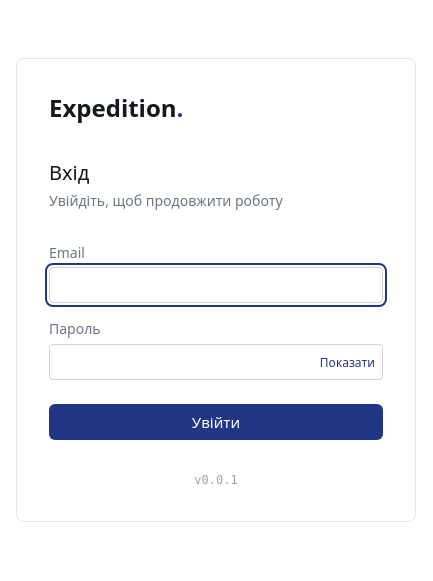
LoginView › shows validation error for field on 422
This screenshot has width=433, height=581.
Type "bad@example.com" into the field labelled "Email" at (216, 285), box [49,267,383,303]
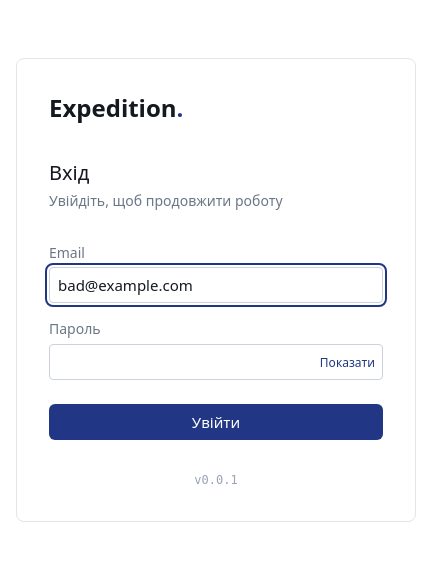
Type "secret" into the password field labelled "Пароль Показати" at (216, 362), box [49,344,383,380]
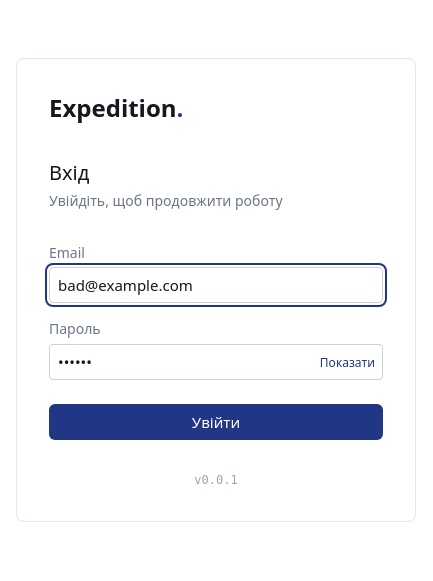
Submit the form
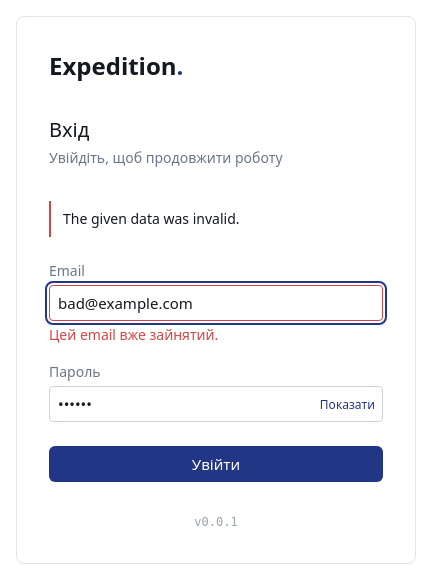
expect the text "Цей email вже зайнятий." is shown: met, box [49,325,218,344]
